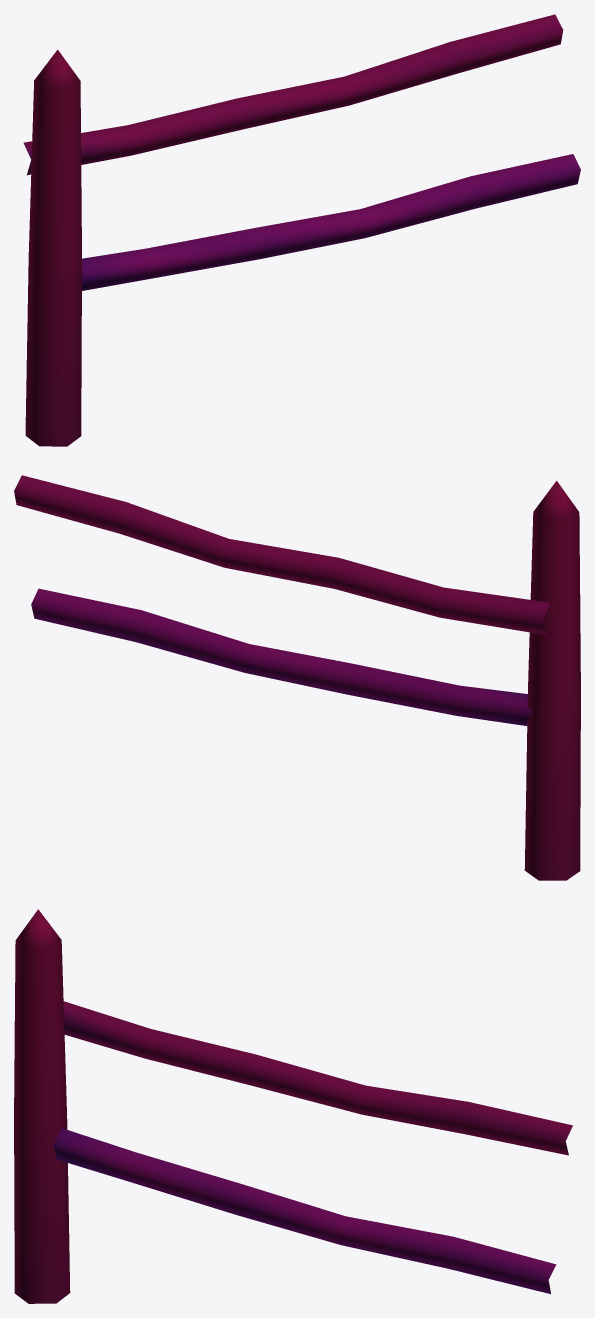
Rendered from veg_fence_rail.glb.
3 views of the same model, one above another, from view 1: azimuth 30°, elevation 25°; view 2: azimuth 150°, elevation 25°; view 3: azimuth 330°, elevation 25° (orthographic).
Parts seen in each view (by area): view 1: veg_fence_rail_LOD0; view 2: veg_fence_rail_LOD0; view 3: veg_fence_rail_LOD0.
Part boxes in pixels (box(x1,y1,x2,y2)): veg_fence_rail_LOD0: box(23, 14, 580, 446); veg_fence_rail_LOD0: box(14, 475, 580, 880); veg_fence_rail_LOD0: box(14, 909, 572, 1303).
Size of what is drawn, in the model's own units: 1.07 by 0.7409 by 0.1403.
